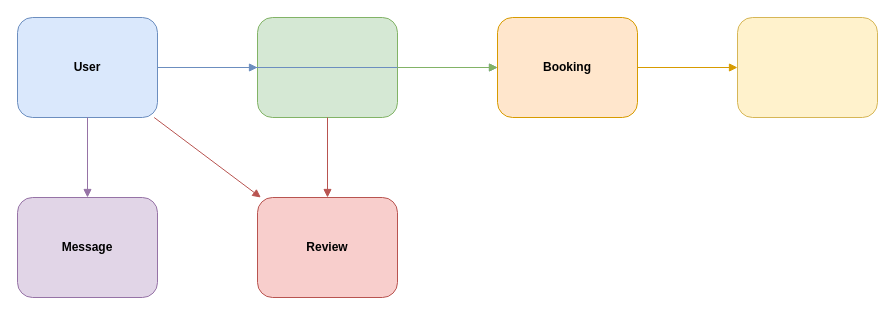
Image size: 895x315. Some labels were removed from this diagram. The shapes that lost their labels are listed below. From the top down, each one's centre as x and y in pixels, then its label:
At point (327, 67): "Property".
At point (807, 67): "Payment".
